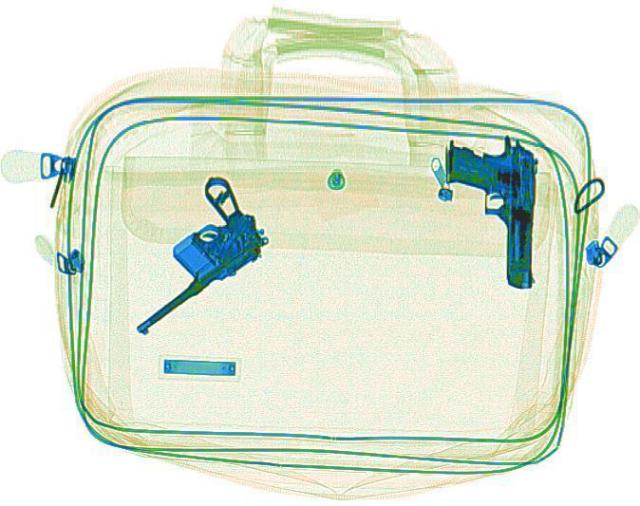Gun: (68, 172, 296, 336), (445, 131, 537, 287)
